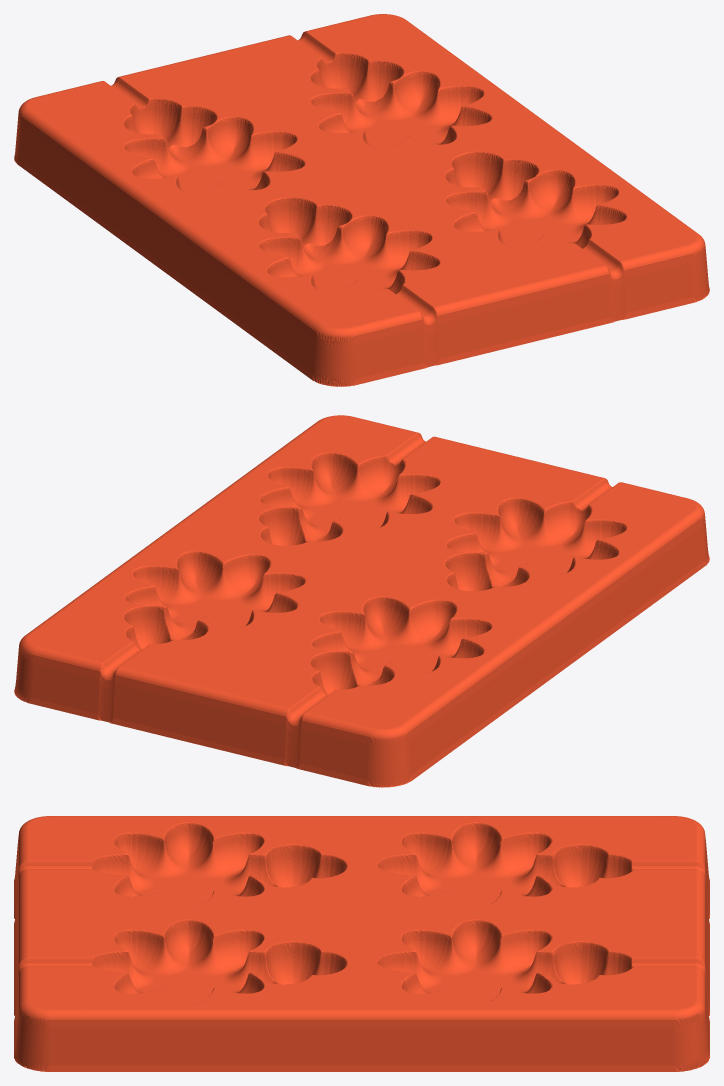
The model's file is mold.glb.
The picture shows the model from 3 angles, top to bottom: view 1: azimuth 30°, elevation 25°; view 2: azimuth 150°, elevation 25°; view 3: azimuth 270°, elevation 25°; orthographic projection. The views are drawn at different scales.
Visible parts, largest first — view 1: geometry_0; view 2: geometry_0; view 3: geometry_0.
Part boxes in pixels (x1=…): geometry_0: x1=14, y1=14, x2=709, y2=386; geometry_0: x1=14, y1=415, x2=709, y2=787; geometry_0: x1=14, y1=816, x2=709, y2=1071.
Size of the model in its own units: 0.1208 by 0.0155 by 0.1735.
